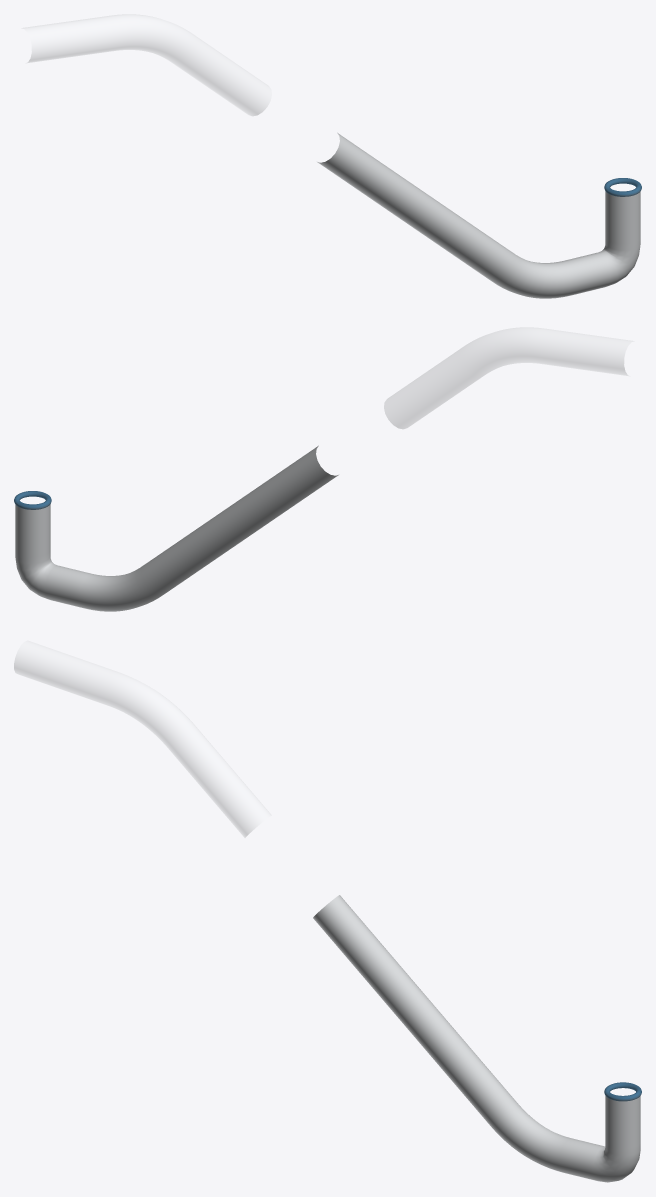
File: glass-delivery-tube.glb
3 views of the same model, one above another, from view 1: azimuth 30°, elevation 25°; view 2: azimuth 150°, elevation 25°; view 3: azimuth 330°, elevation 25° (orthographic).
Parts seen in each view (by area): view 1: glass-delivery-tube part 2, glass-delivery-tube part 1, glass-delivery-tube part 3; view 2: glass-delivery-tube part 2, glass-delivery-tube part 1, glass-delivery-tube part 3; view 3: glass-delivery-tube part 2, glass-delivery-tube part 1.
Part boxes in pixels (x1,y1,x2,y2): glass-delivery-tube part 2: (317, 132, 640, 298); glass-delivery-tube part 1: (22, 14, 271, 115); glass-delivery-tube part 3: (604, 178, 641, 196); glass-delivery-tube part 2: (15, 445, 338, 611); glass-delivery-tube part 1: (384, 327, 633, 428); glass-delivery-tube part 3: (14, 491, 51, 509); glass-delivery-tube part 2: (313, 895, 640, 1182); glass-delivery-tube part 1: (14, 641, 271, 837).
Bounding box in the file's own units: 0.3439 × 0.2113 × 0.0182.
